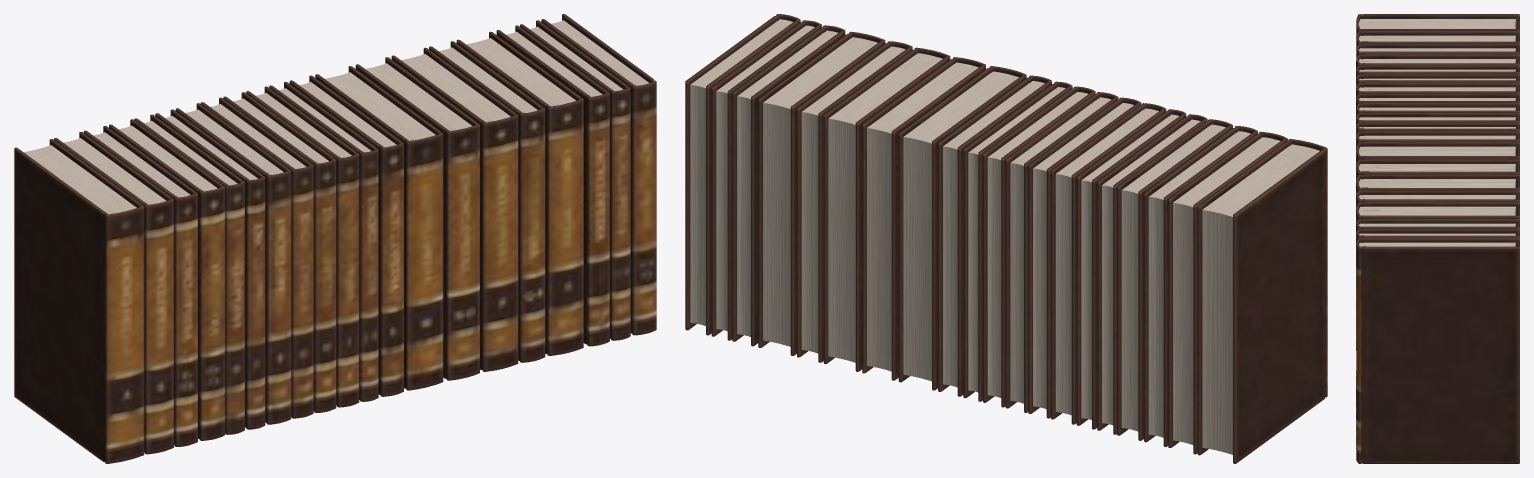
Rendered from book_encyclopedia_set_01.glb.
The picture shows the model from 3 angles, left to right: view 1: azimuth 30°, elevation 25°; view 2: azimuth 150°, elevation 25°; view 3: azimuth 270°, elevation 25°; orthographic projection. The views are drawn at different scales.
Parts seen in each view (by area): view 1: book_encyclopedia_set_01_book01, book_encyclopedia_set_01_book13, book_encyclopedia_set_01_book15, book_encyclopedia_set_01_book17, book_encyclopedia_set_01_book14, book_encyclopedia_set_01_book02, book_encyclopedia_set_01_book16, book_encyclopedia_set_01_book04, book_encyclopedia_set_01_book18, book_encyclopedia_set_01_book20, book_encyclopedia_set_01_book07, book_encyclopedia_set_01_book12 (+8 smaller); view 2: book_encyclopedia_set_01_book01, book_encyclopedia_set_01_book13, book_encyclopedia_set_01_book15, book_encyclopedia_set_01_book17, book_encyclopedia_set_01_book14, book_encyclopedia_set_01_book02, book_encyclopedia_set_01_book04, book_encyclopedia_set_01_book16, book_encyclopedia_set_01_book18, book_encyclopedia_set_01_book20, book_encyclopedia_set_01_book07, book_encyclopedia_set_01_book12 (+8 smaller); view 3: book_encyclopedia_set_01_book20, book_encyclopedia_set_01_book13, book_encyclopedia_set_01_book01, book_encyclopedia_set_01_book17, book_encyclopedia_set_01_book15, book_encyclopedia_set_01_book14, book_encyclopedia_set_01_book02, book_encyclopedia_set_01_book16, book_encyclopedia_set_01_book03, book_encyclopedia_set_01_book07, book_encyclopedia_set_01_book12, book_encyclopedia_set_01_book18 (+8 smaller).
Part boxes in pixels (left/top/right/bottom): book_encyclopedia_set_01_book01: left=14, top=139, right=144, bottom=463; book_encyclopedia_set_01_book13: left=315, top=66, right=443, bottom=390; book_encyclopedia_set_01_book15: left=391, top=47, right=518, bottom=371; book_encyclopedia_set_01_book17: left=456, top=31, right=583, bottom=355; book_encyclopedia_set_01_book14: left=355, top=57, right=479, bottom=380; book_encyclopedia_set_01_book02: left=54, top=132, right=173, bottom=454; book_encyclopedia_set_01_book16: left=429, top=41, right=545, bottom=362; book_encyclopedia_set_01_book04: left=109, top=119, right=224, bottom=440; book_encyclopedia_set_01_book18: left=496, top=25, right=609, bottom=346; book_encyclopedia_set_01_book20: left=541, top=14, right=656, bottom=335; book_encyclopedia_set_01_book07: left=175, top=103, right=291, bottom=424; book_encyclopedia_set_01_book12: left=289, top=75, right=403, bottom=396; book_encyclopedia_set_01_book01: left=1197, top=139, right=1327, bottom=463; book_encyclopedia_set_01_book13: left=898, top=66, right=1026, bottom=390; book_encyclopedia_set_01_book15: left=823, top=47, right=950, bottom=371; book_encyclopedia_set_01_book17: left=758, top=31, right=885, bottom=355; book_encyclopedia_set_01_book14: left=862, top=57, right=985, bottom=380; book_encyclopedia_set_01_book02: left=1168, top=131, right=1287, bottom=454; book_encyclopedia_set_01_book04: left=1117, top=119, right=1232, bottom=440; book_encyclopedia_set_01_book16: left=797, top=41, right=912, bottom=362; book_encyclopedia_set_01_book18: left=732, top=25, right=845, bottom=346; book_encyclopedia_set_01_book20: left=685, top=14, right=800, bottom=335; book_encyclopedia_set_01_book07: left=1051, top=103, right=1166, bottom=424; book_encyclopedia_set_01_book12: left=938, top=75, right=1051, bottom=396; book_encyclopedia_set_01_book20: left=1356, top=238, right=1519, bottom=463; book_encyclopedia_set_01_book13: left=1356, top=142, right=1519, bottom=162; book_encyclopedia_set_01_book01: left=1356, top=14, right=1519, bottom=34; book_encyclopedia_set_01_book17: left=1356, top=202, right=1519, bottom=221; book_encyclopedia_set_01_book15: left=1356, top=174, right=1519, bottom=194; book_encyclopedia_set_01_book14: left=1356, top=159, right=1519, bottom=178; book_encyclopedia_set_01_book02: left=1356, top=30, right=1519, bottom=46; book_encyclopedia_set_01_book16: left=1356, top=190, right=1519, bottom=222; book_encyclopedia_set_01_book03: left=1356, top=43, right=1519, bottom=57; book_encyclopedia_set_01_book07: left=1356, top=82, right=1519, bottom=181; book_encyclopedia_set_01_book12: left=1356, top=131, right=1519, bottom=350; book_encyclopedia_set_01_book18: left=1356, top=218, right=1519, bottom=274.
Size of the model in its own units: 0.5513 by 0.2374 by 0.1631.
2 materials, 2 textured.
